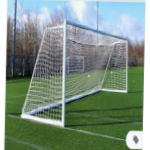goals: (20, 17, 130, 132)
